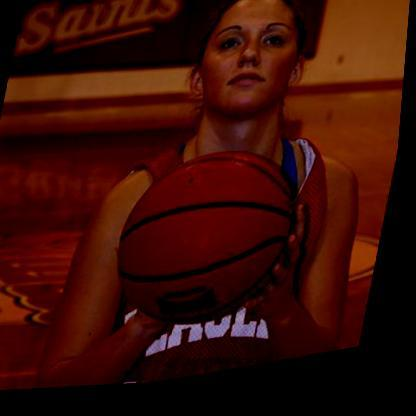basketball: (104, 136, 315, 356)
